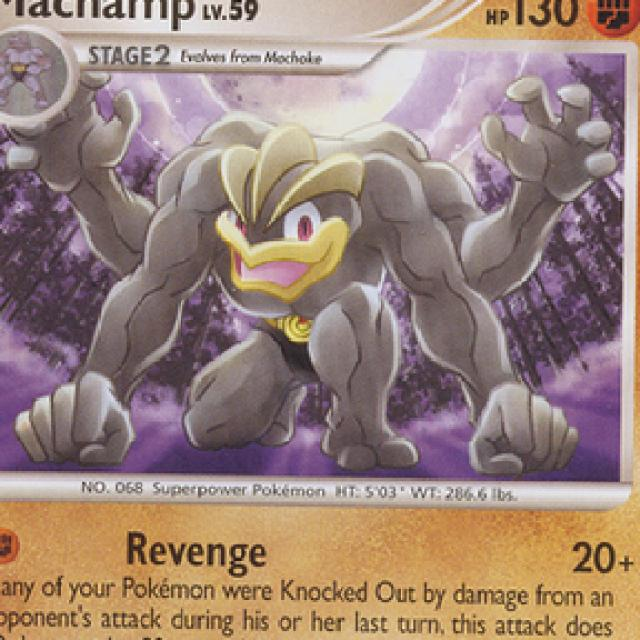Machamp: (97, 120, 495, 470)
